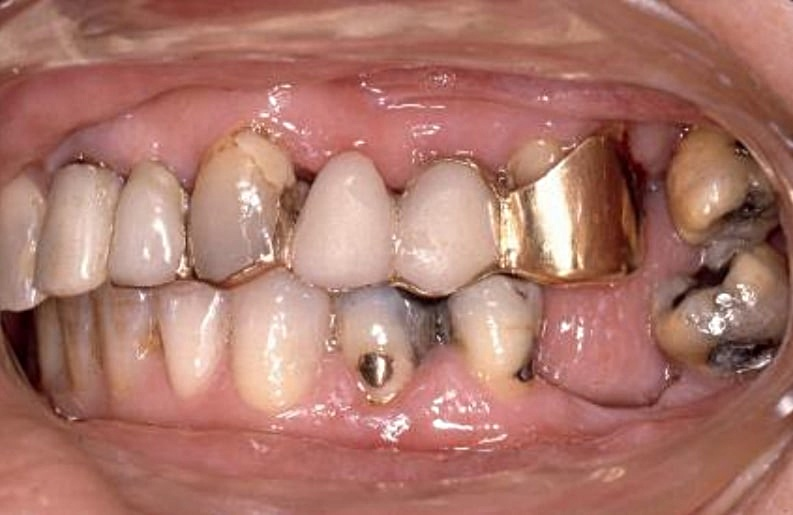karies: (702, 331, 787, 385), (661, 245, 735, 302), (49, 147, 120, 184), (719, 183, 773, 227), (414, 306, 459, 351), (723, 132, 762, 171), (505, 354, 546, 387), (140, 324, 172, 358), (509, 282, 539, 309)
